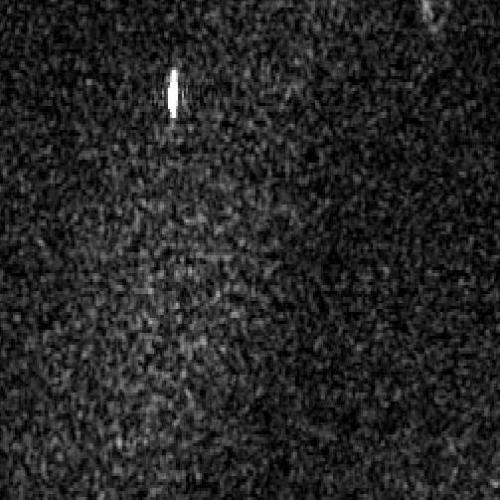ship: (166, 67, 180, 121)
